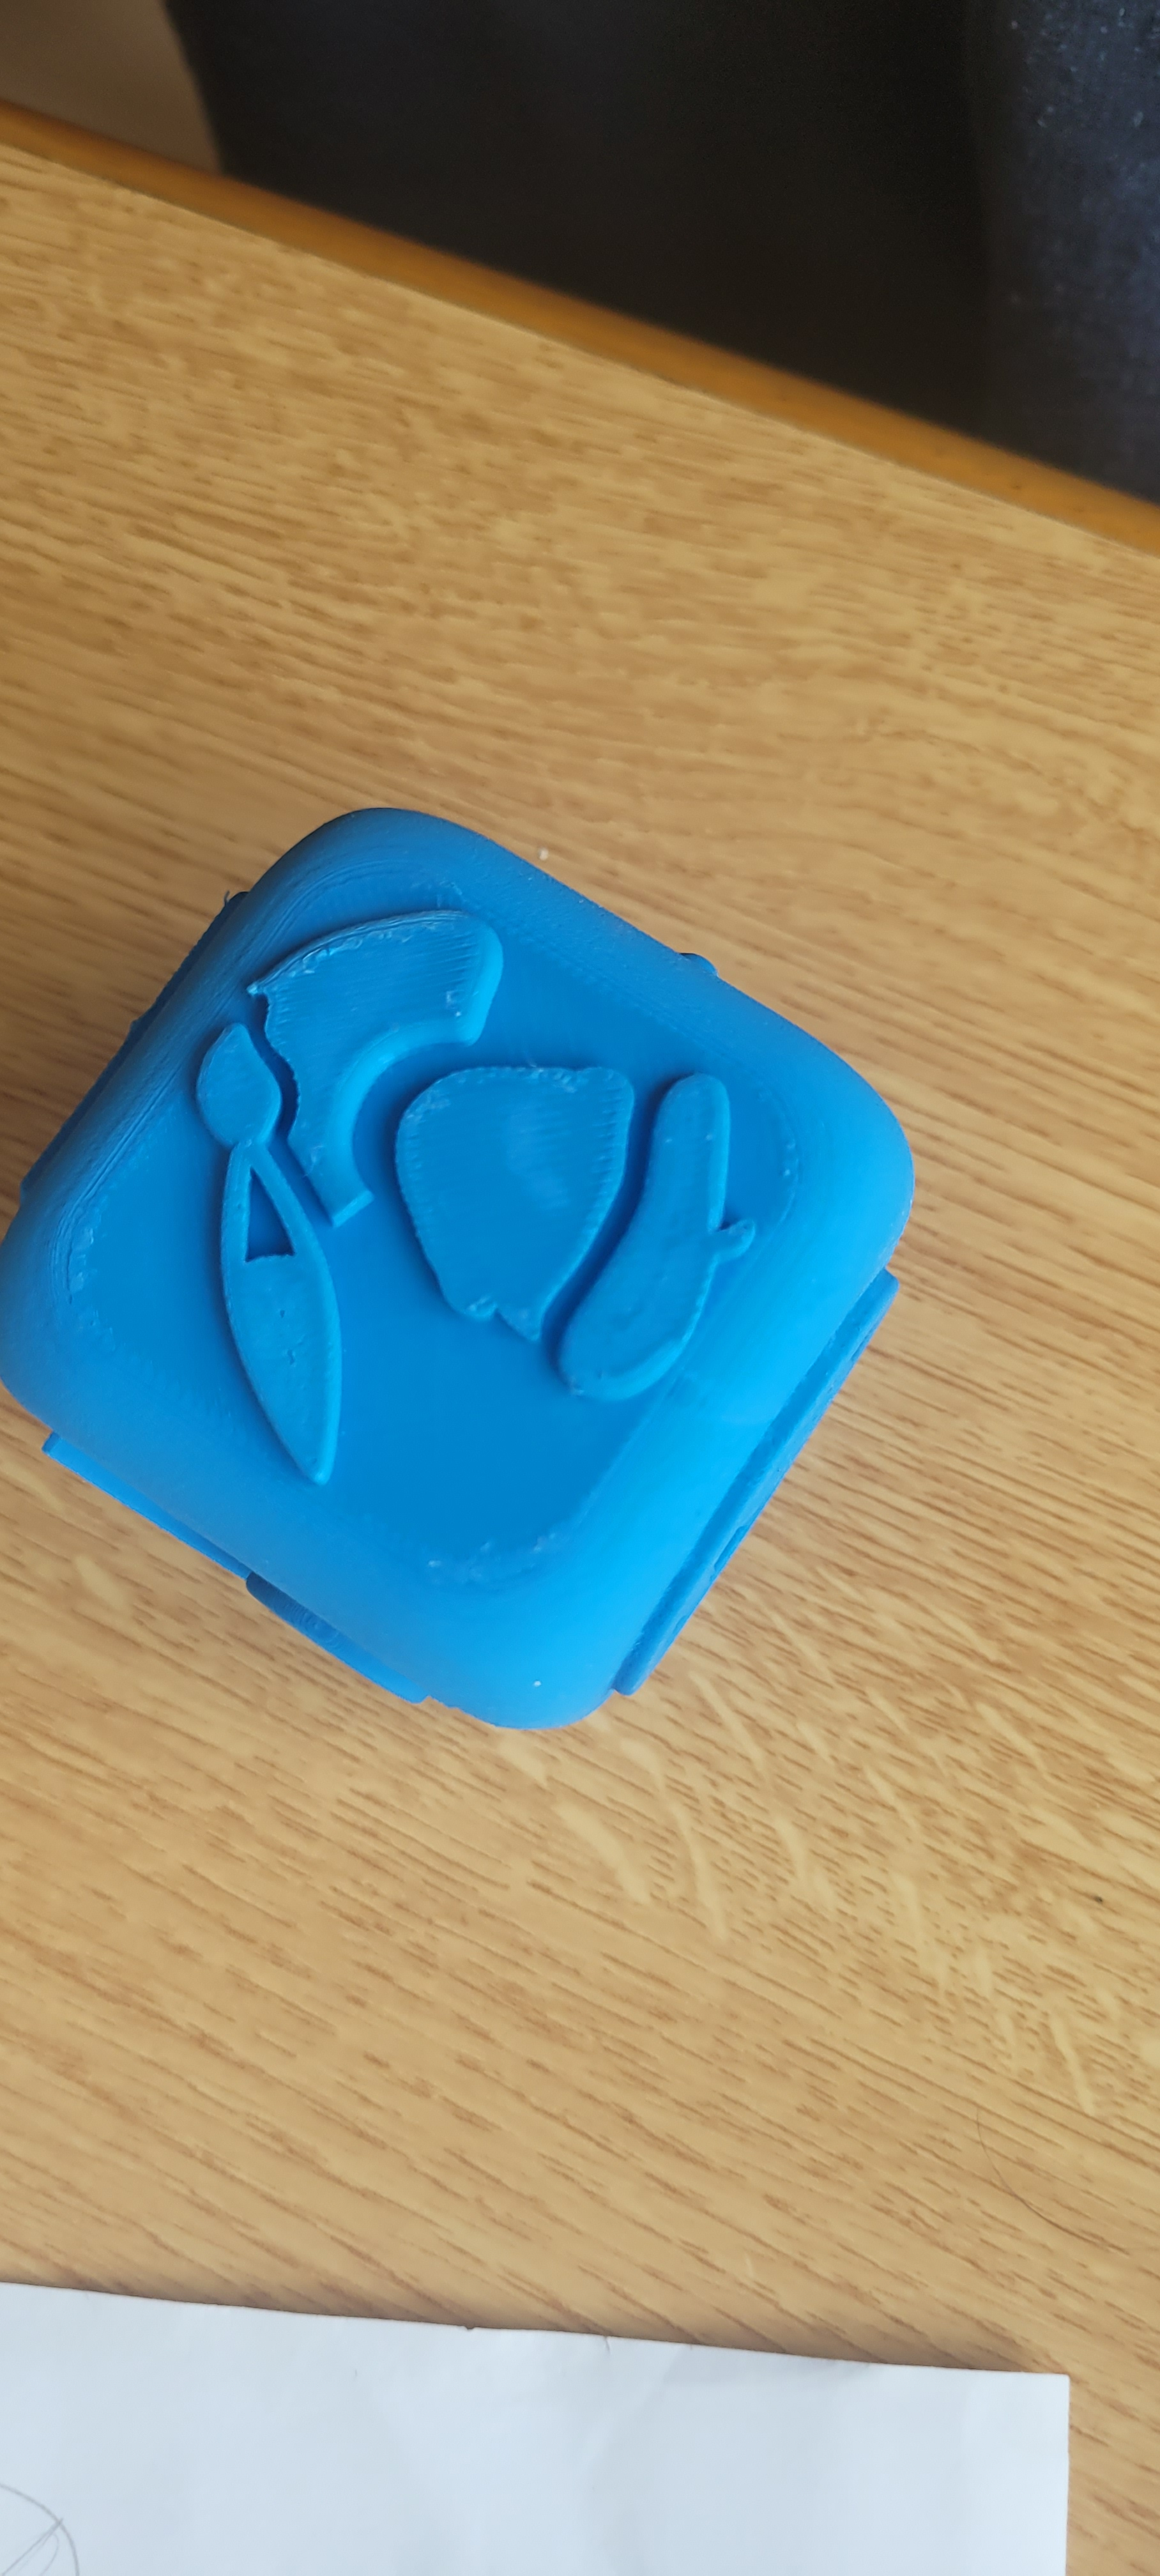Artist_Info: (0, 923, 998, 1617)
